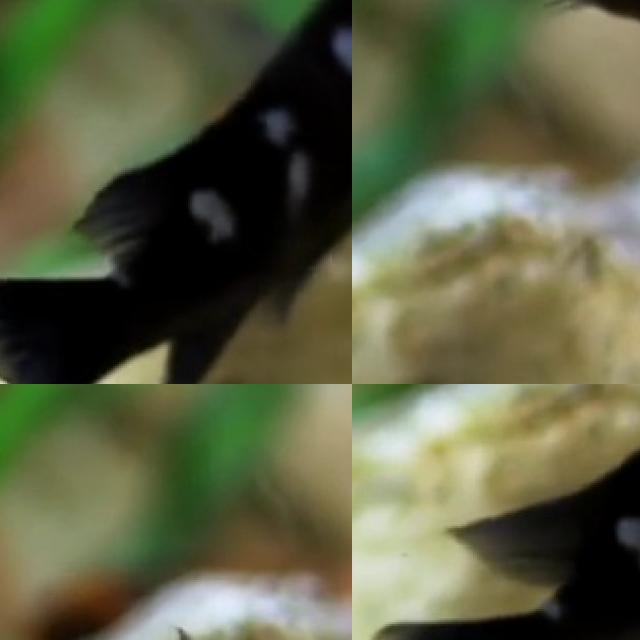fish: (0, 0, 352, 384), (352, 0, 640, 75)
